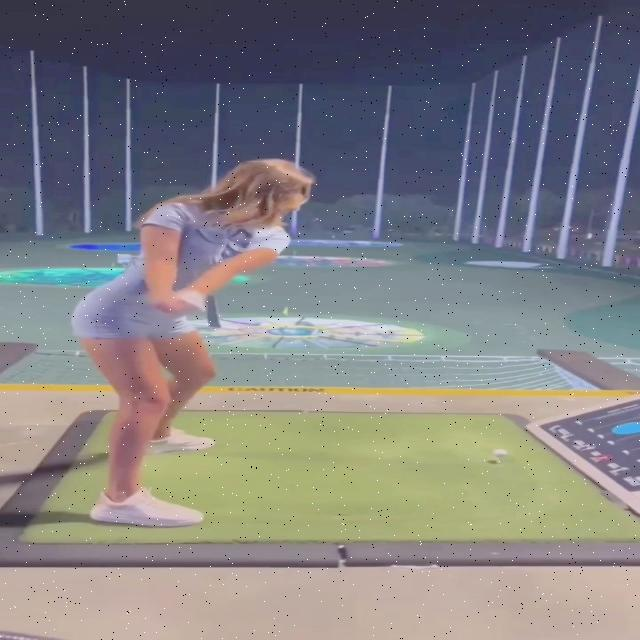golf ball: (494, 448, 509, 457)
